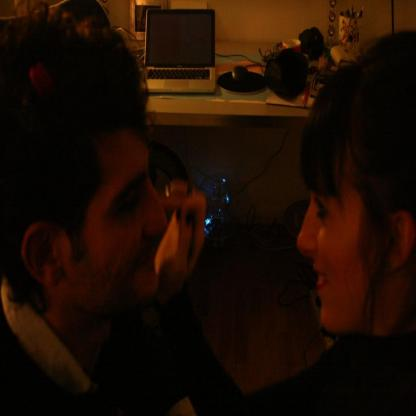board: (142, 2, 217, 92)
